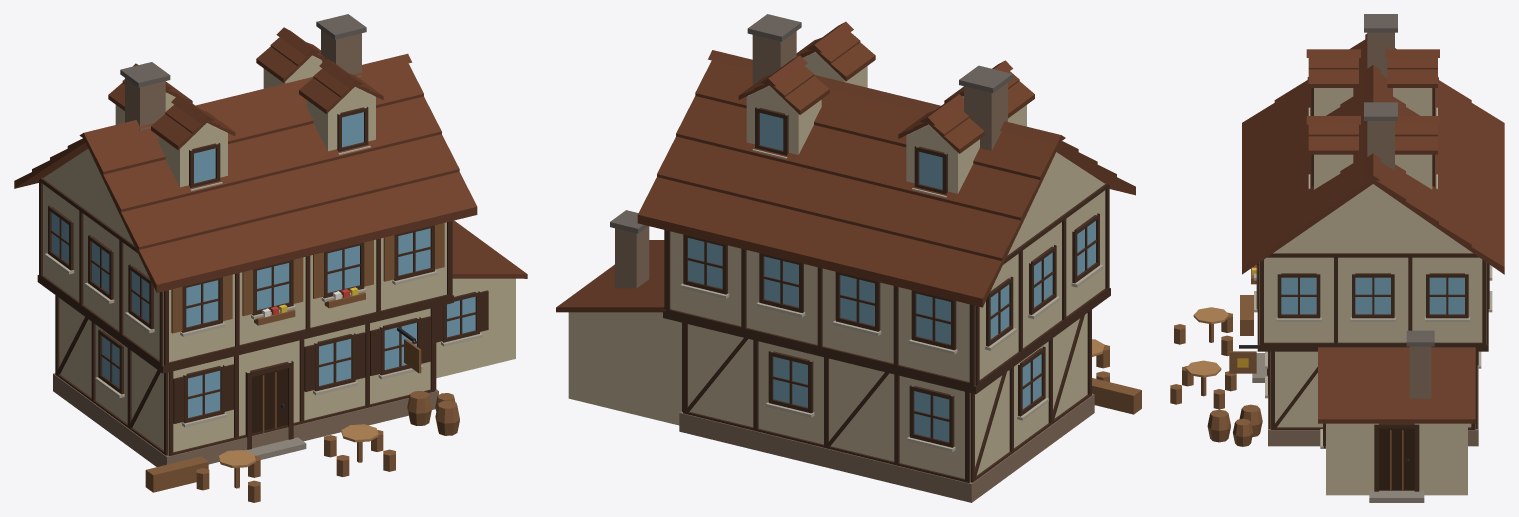
The model's file is tavern.fbx.
3 views of the same model, side by side, from view 1: azimuth 30°, elevation 25°; view 2: azimuth 150°, elevation 25°; view 3: azimuth 270°, elevation 25° (orthographic). The views are drawn at different scales.
Parts seen in each view (by area): view 1: tavern; view 2: tavern; view 3: tavern.
Part boxes in pixels (x1,y1,x2,y2): tavern: (14,14,527,502); tavern: (556,14,1141,502); tavern: (1170,14,1504,502).
Bounding box in the file's own units: 11.51 × 8.97 × 8.47.
